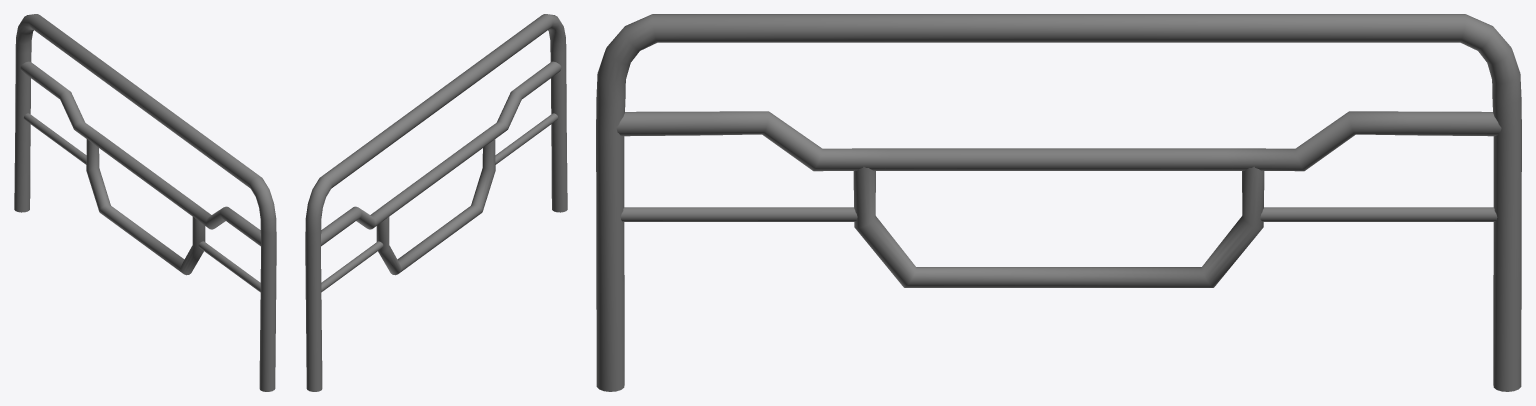
File: q-scifi-mod-prop-rail-2.glb
The picture shows the model from 3 angles, left to right: view 1: azimuth 30°, elevation 25°; view 2: azimuth 150°, elevation 25°; view 3: azimuth 270°, elevation 25°; orthographic projection. The views are drawn at different scales.
Visible parts, largest first — view 1: Prop_Rail_2; view 2: Prop_Rail_2; view 3: Prop_Rail_2.
Boxes of the visible parts, x1,y1,x2,y2 form: Prop_Rail_2: [14, 14, 276, 391]; Prop_Rail_2: [305, 14, 567, 391]; Prop_Rail_2: [596, 14, 1521, 391].
Size of the model in its own units: 0.0666 by 0.8621 by 1.95.
1 material, 1 textured.
